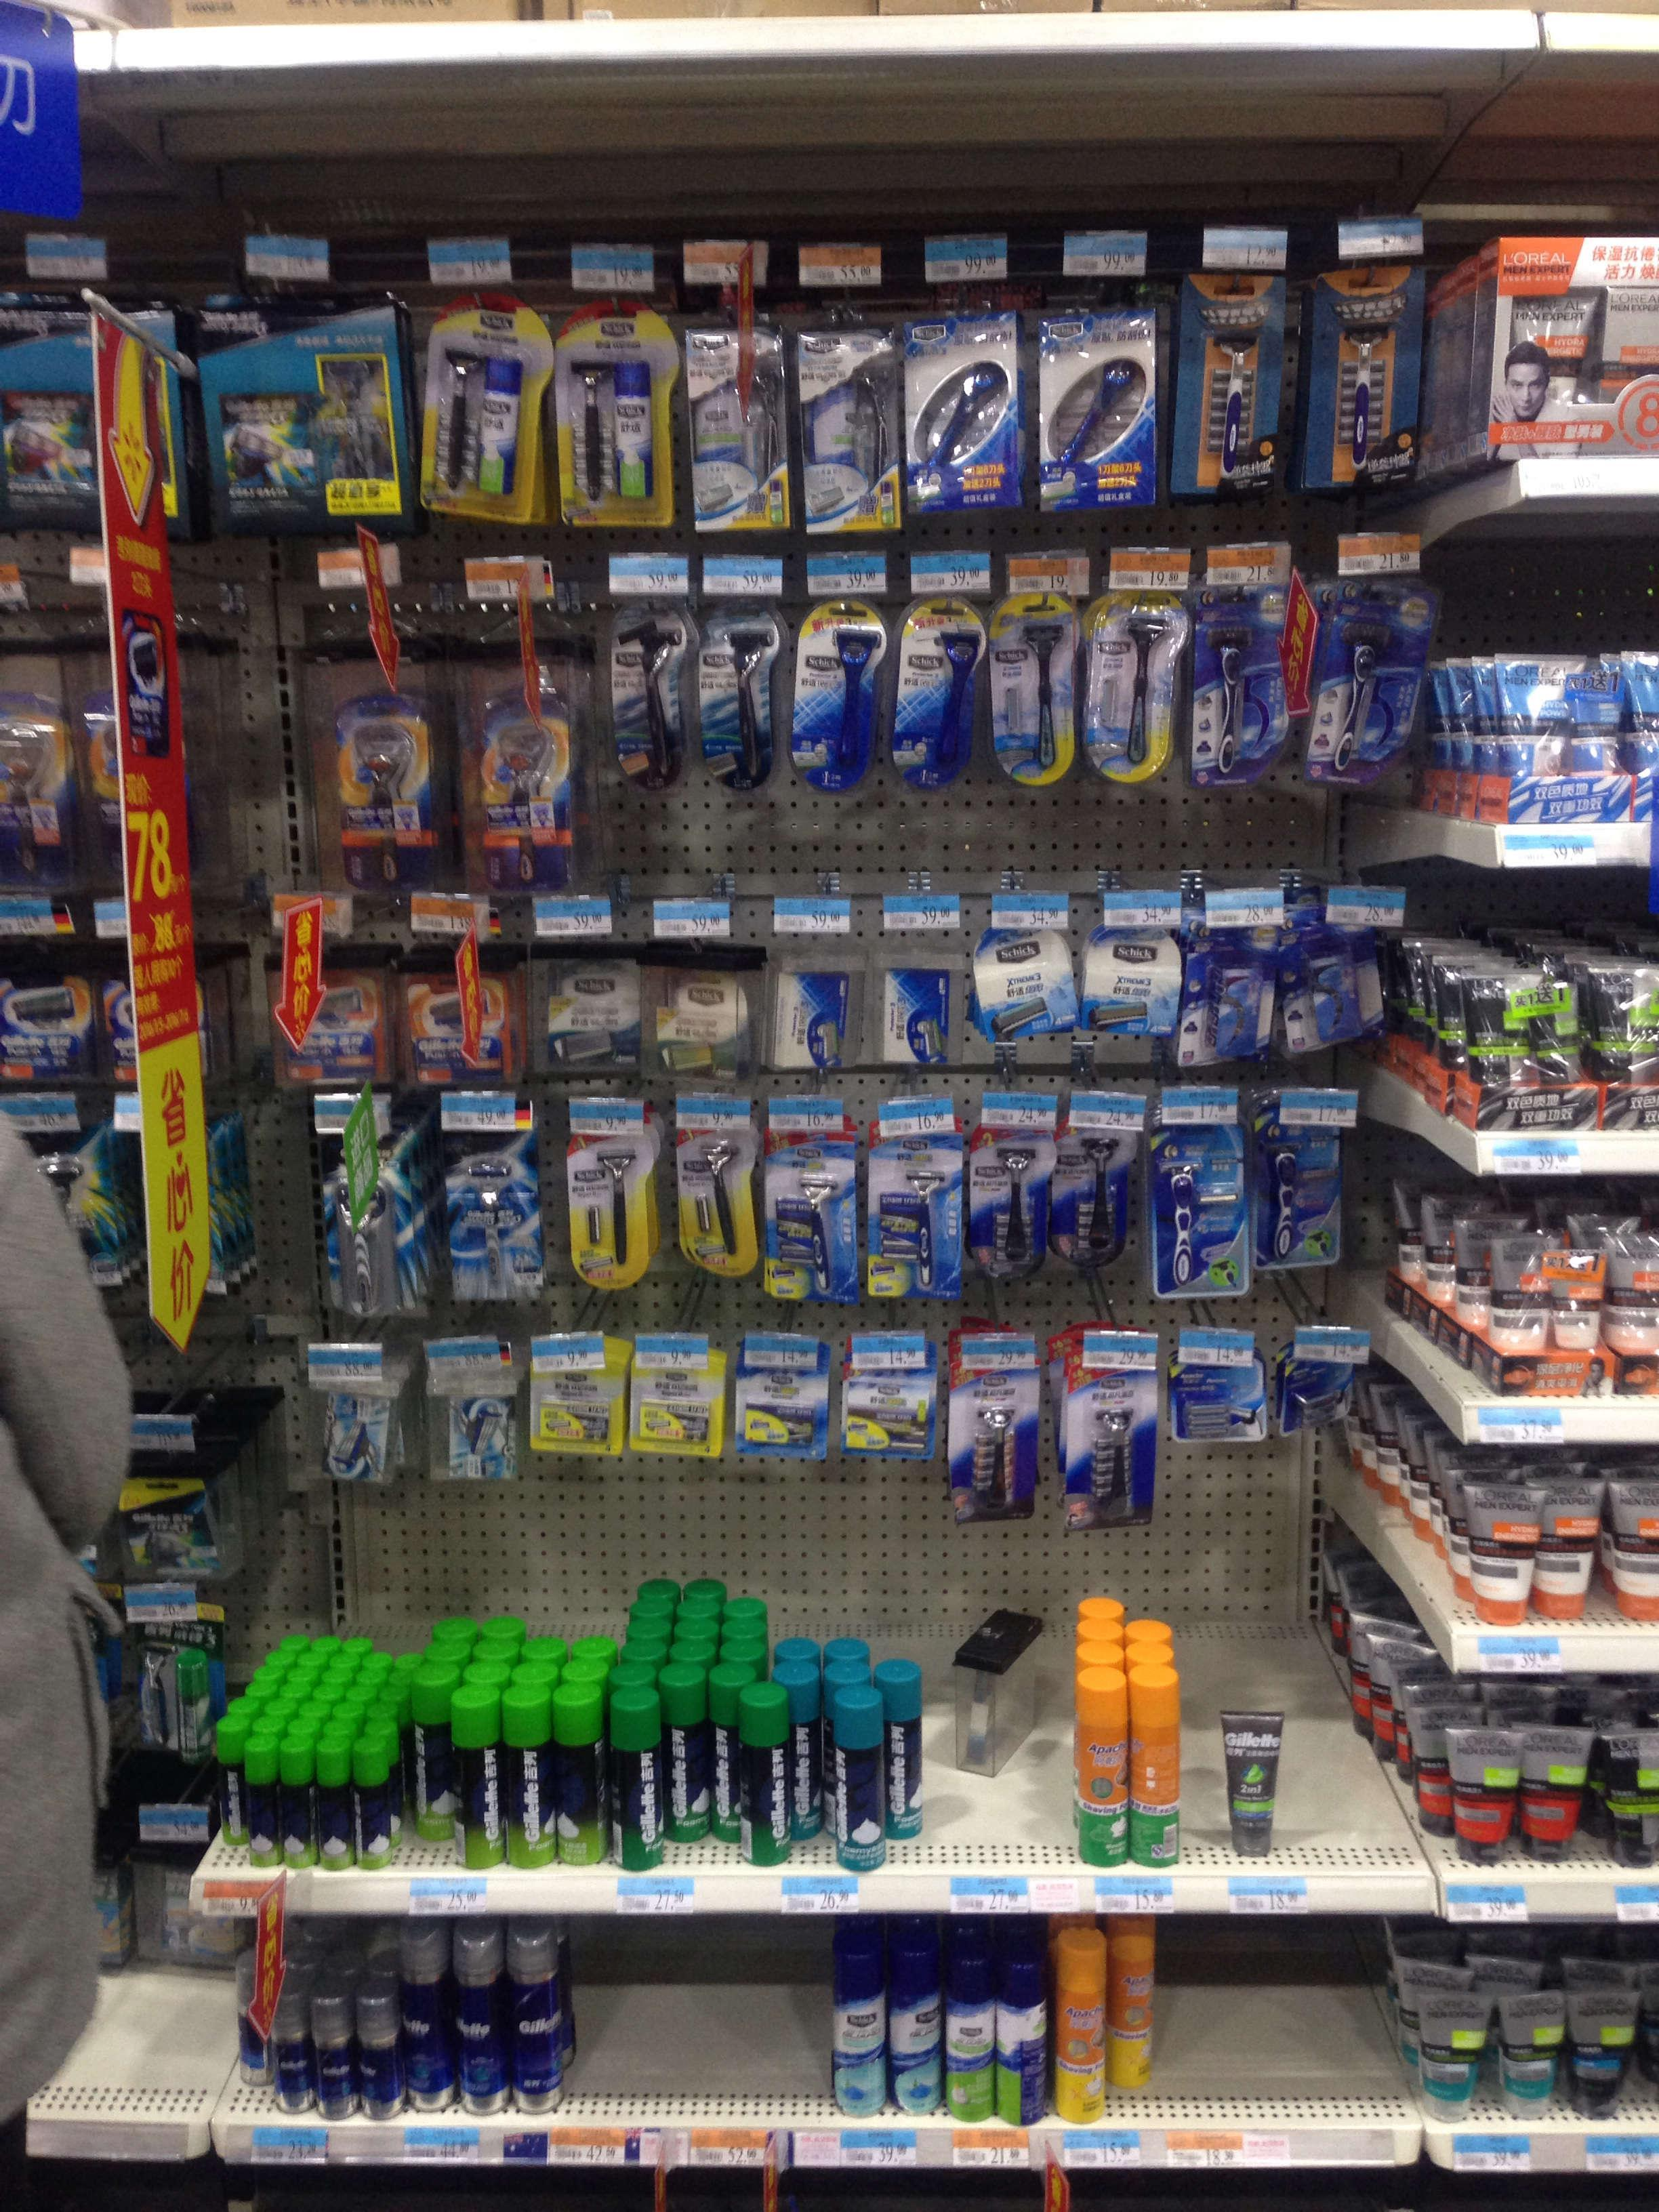misalignment: (945, 1595, 1049, 1782)
